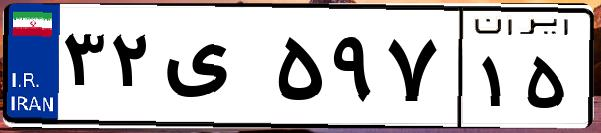1: (475, 38, 525, 113)
2: (110, 28, 158, 98)
3: (57, 26, 110, 100)
5: (270, 28, 330, 110), (525, 38, 570, 115)
7: (385, 28, 445, 110)
9: (330, 28, 385, 110)
ی: (158, 20, 270, 120)
